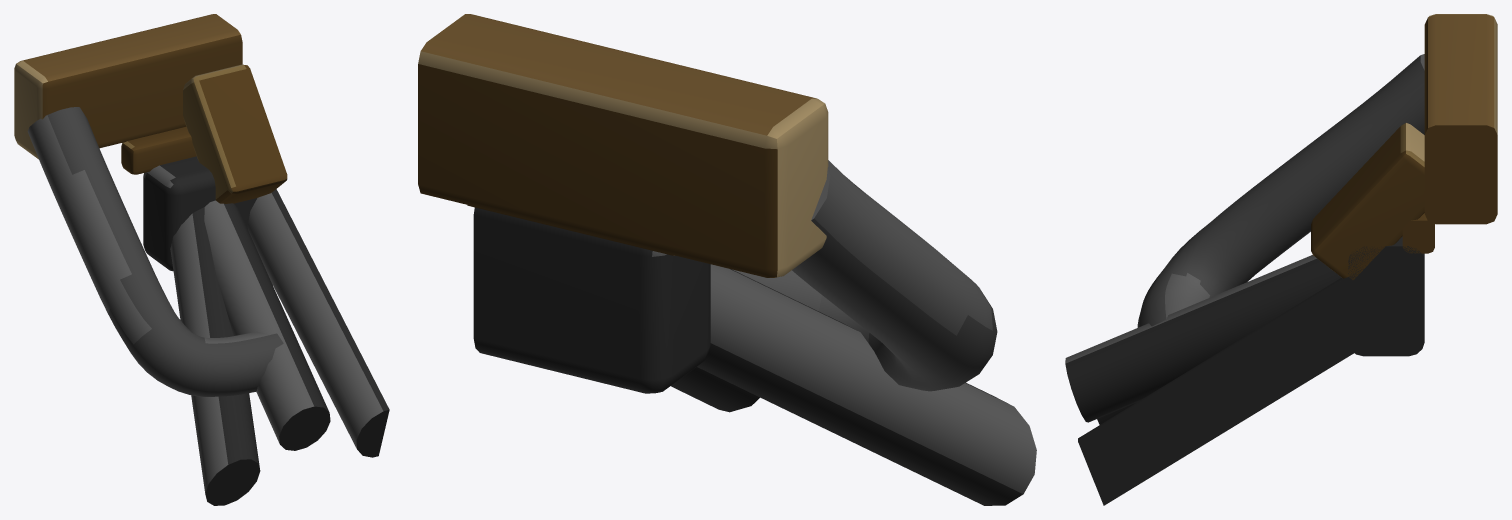
Rendered from asteroid_rig_crane_l.glb.
3 views of the same model, side by side, from view 1: azimuth 30°, elevation 25°; view 2: azimuth 150°, elevation 25°; view 3: azimuth 270°, elevation 25° (orthographic). The views are drawn at different scales.
Visible parts, largest first — view 1: asteroid_rig_crane_l; view 2: asteroid_rig_crane_l; view 3: asteroid_rig_crane_l.
Part boxes in pixels (<box>): asteroid_rig_crane_l: <box>14,14,389,505</box>; asteroid_rig_crane_l: <box>418,14,1036,505</box>; asteroid_rig_crane_l: <box>1065,14,1497,505</box>.
Size of the model in its own units: 13.75 by 21.69 by 21.35.
